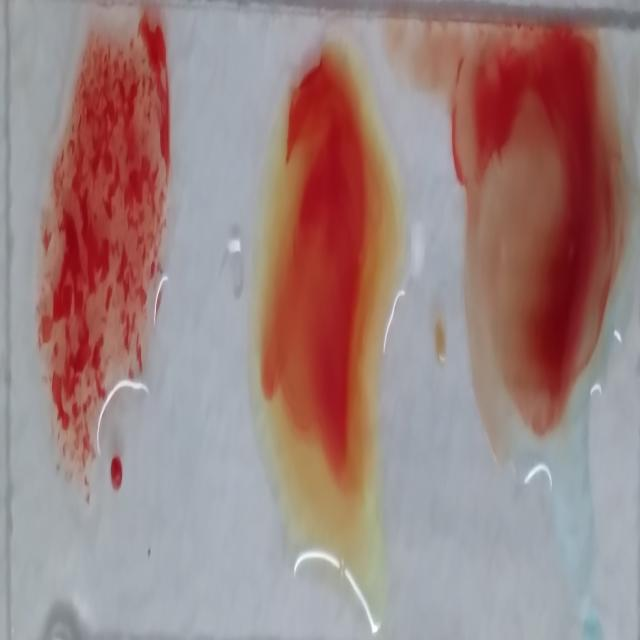D: (42, 28, 175, 448)
